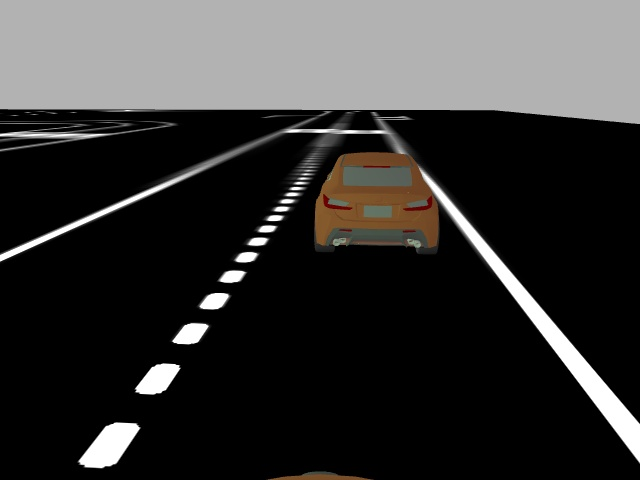obstacle_car: (311, 151, 442, 257)
